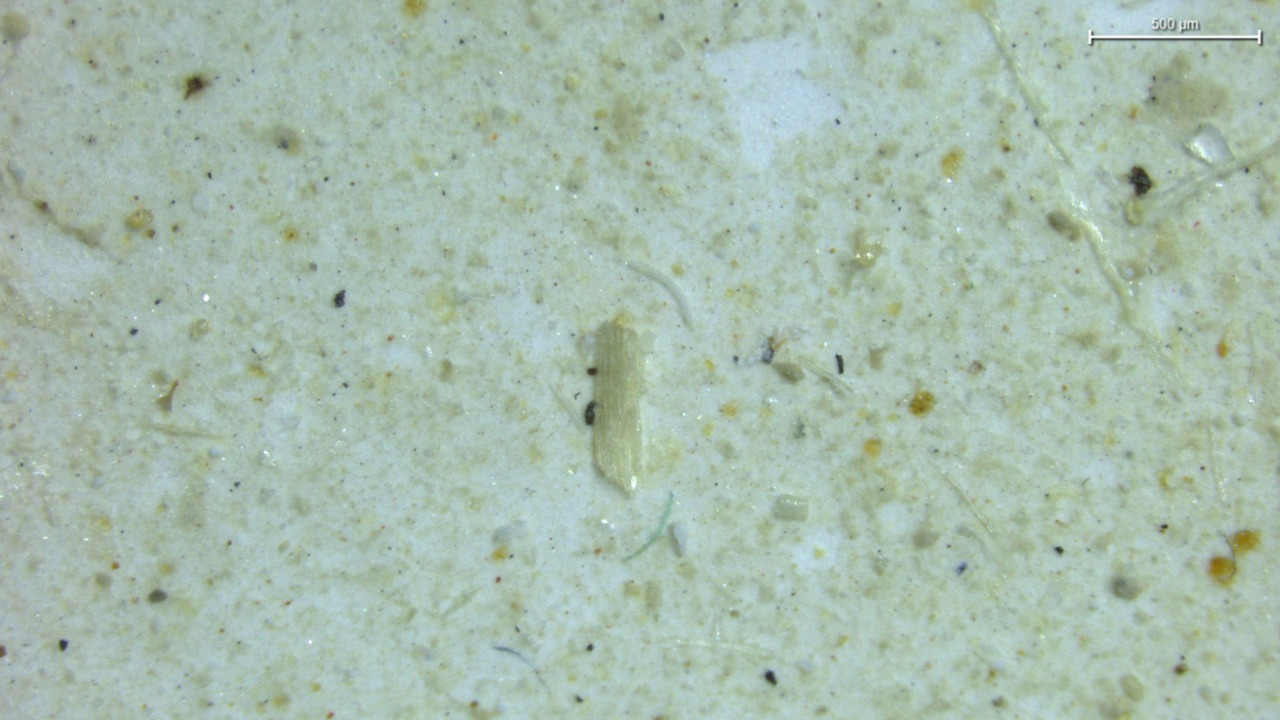microplastic_fragment: (592, 322, 645, 493), (1186, 124, 1233, 165), (772, 494, 809, 522), (669, 522, 688, 556)
